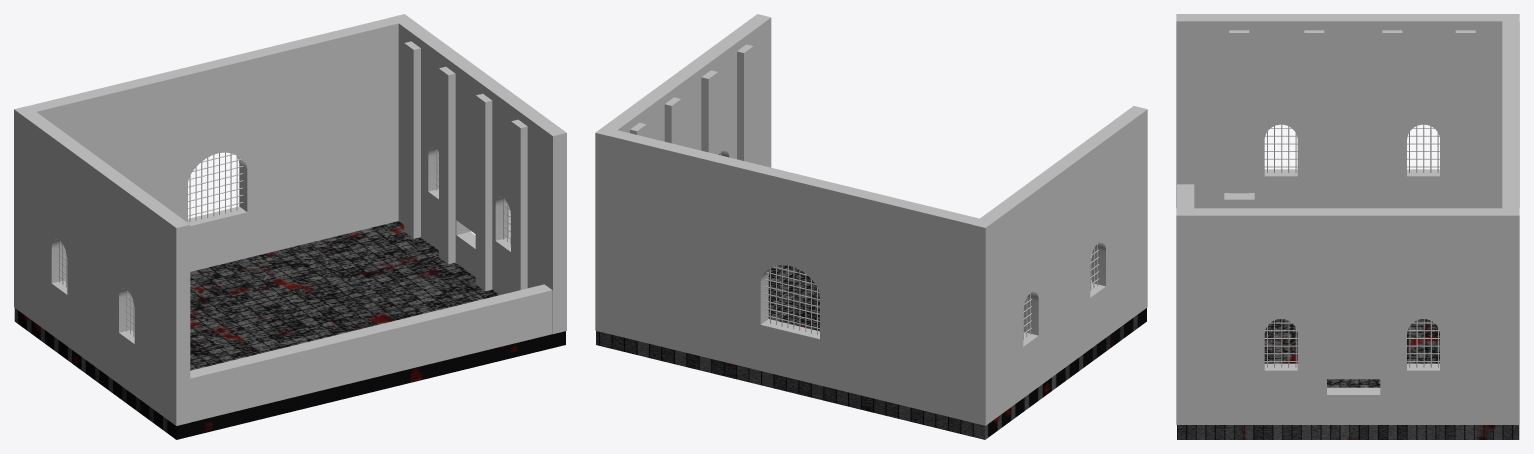
The model's file is Kitchen2.fbx.
3 renders of one model, left to right at view 1: azimuth 30°, elevation 25°; view 2: azimuth 150°, elevation 25°; view 3: azimuth 270°, elevation 25°, orthographic. The views are drawn at different scales.
Parts seen in each view (by area): view 1: WallBack.001, WallLeft.001, Cube.038, WallRight.001, WallFront.001, Cube.028, Cube.036, Cube.034, Cube.027, Circle.016, Circle.017; view 2: WallBack.001, WallLeft.001, WallRight.001, Cube.038, Cube.027, Cube.028, Circle.016, Cube.034, Circle.017; view 3: WallRight.001, WallLeft.001, Cube.038, Cube.025, Cube.033, Cube.037, Cube.030, WallBack.001, WallFront.001, Circle.022, Circle.024, Circle.018 (+1 smaller).
Boxes of the visible parts, x1,y1,x2,y2 form: WallBack.001: [28, 17, 398, 280]; WallLeft.001: [14, 106, 190, 425]; Cube.038: [14, 221, 565, 439]; WallRight.001: [391, 14, 566, 333]; WallFront.001: [190, 284, 552, 422]; Cube.028: [475, 93, 492, 291]; Cube.036: [404, 41, 420, 238]; Cube.034: [439, 66, 455, 264]; Cube.027: [511, 119, 527, 292]; Circle.016: [189, 152, 237, 222]; Circle.017: [188, 154, 243, 216]; WallBack.001: [609, 130, 979, 422]; WallLeft.001: [971, 106, 1147, 425]; WallRight.001: [595, 14, 771, 333]; Cube.038: [596, 265, 1146, 439]; Cube.027: [737, 44, 753, 162]; Cube.028: [701, 70, 717, 154]; Circle.016: [770, 265, 817, 334]; Cube.034: [664, 97, 681, 145]; Circle.017: [764, 266, 819, 329]; WallRight.001: [1176, 208, 1519, 424]; WallLeft.001: [1176, 14, 1519, 208]; Cube.038: [1177, 319, 1519, 439]; Cube.025: [1304, 30, 1324, 208]; Cube.033: [1455, 30, 1475, 208]; Cube.037: [1382, 30, 1402, 208]; Cube.030: [1229, 30, 1249, 208]; WallBack.001: [1502, 21, 1519, 208]; WallFront.001: [1177, 184, 1194, 208]; Circle.022: [1409, 319, 1438, 367]; Circle.024: [1409, 124, 1438, 172]; Circle.018: [1267, 319, 1296, 367].
Size of the model in its own units: 27.88 by 14.48 by 20.07.
